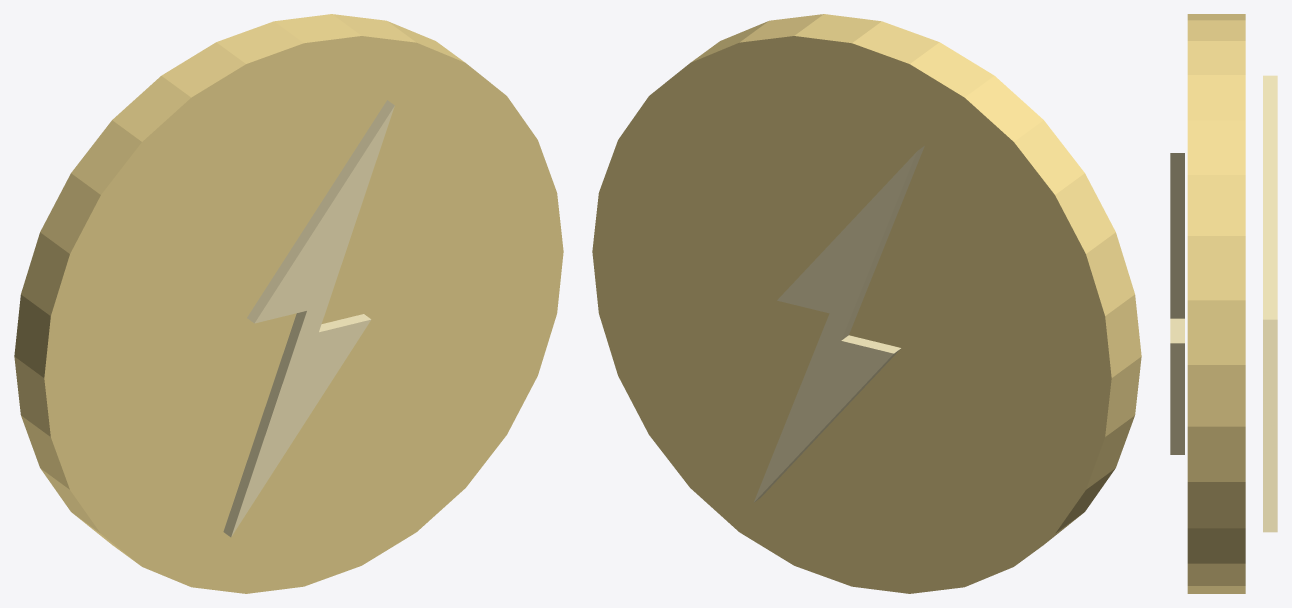
File: coin.glb
3 views of the same model, side by side, from view 1: azimuth 30°, elevation 25°; view 2: azimuth 150°, elevation 25°; view 3: azimuth 270°, elevation 25° (orthographic). The views are drawn at different scales.
Visible parts, largest first — view 1: item_coin; view 2: item_coin; view 3: item_coin.
Boxes of the visible parts, x1,y1,x2,y2 form: item_coin: (14,14,563,593); item_coin: (592,14,1141,593); item_coin: (1170,14,1277,593).
Bounding box in the file's own units: 0.55 × 0.55 × 0.102.
